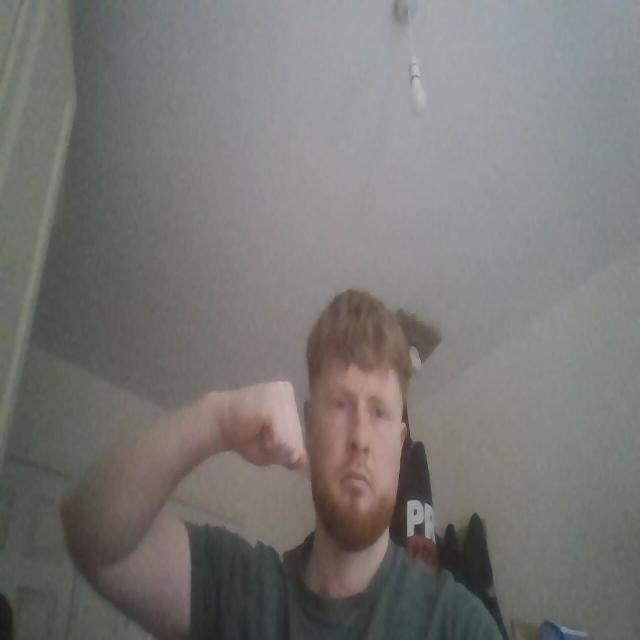rock: (205, 379, 309, 478)
